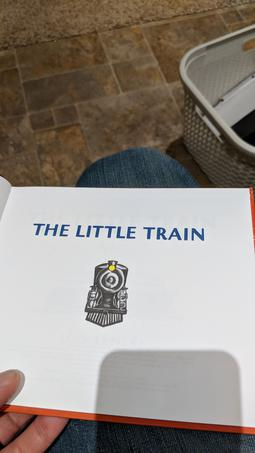text block: (32, 221, 211, 247)
